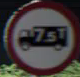Heavy Vehicles: (6, 7, 74, 64)
